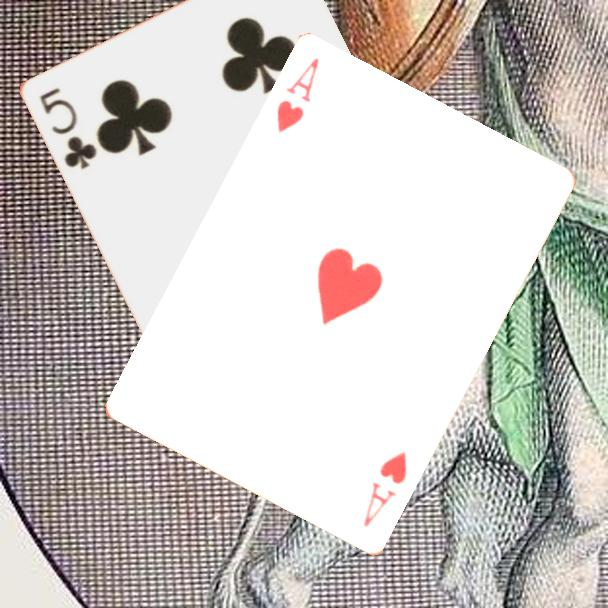c05: (35, 83, 99, 172)
h01: (360, 449, 410, 531), (273, 54, 322, 136)
